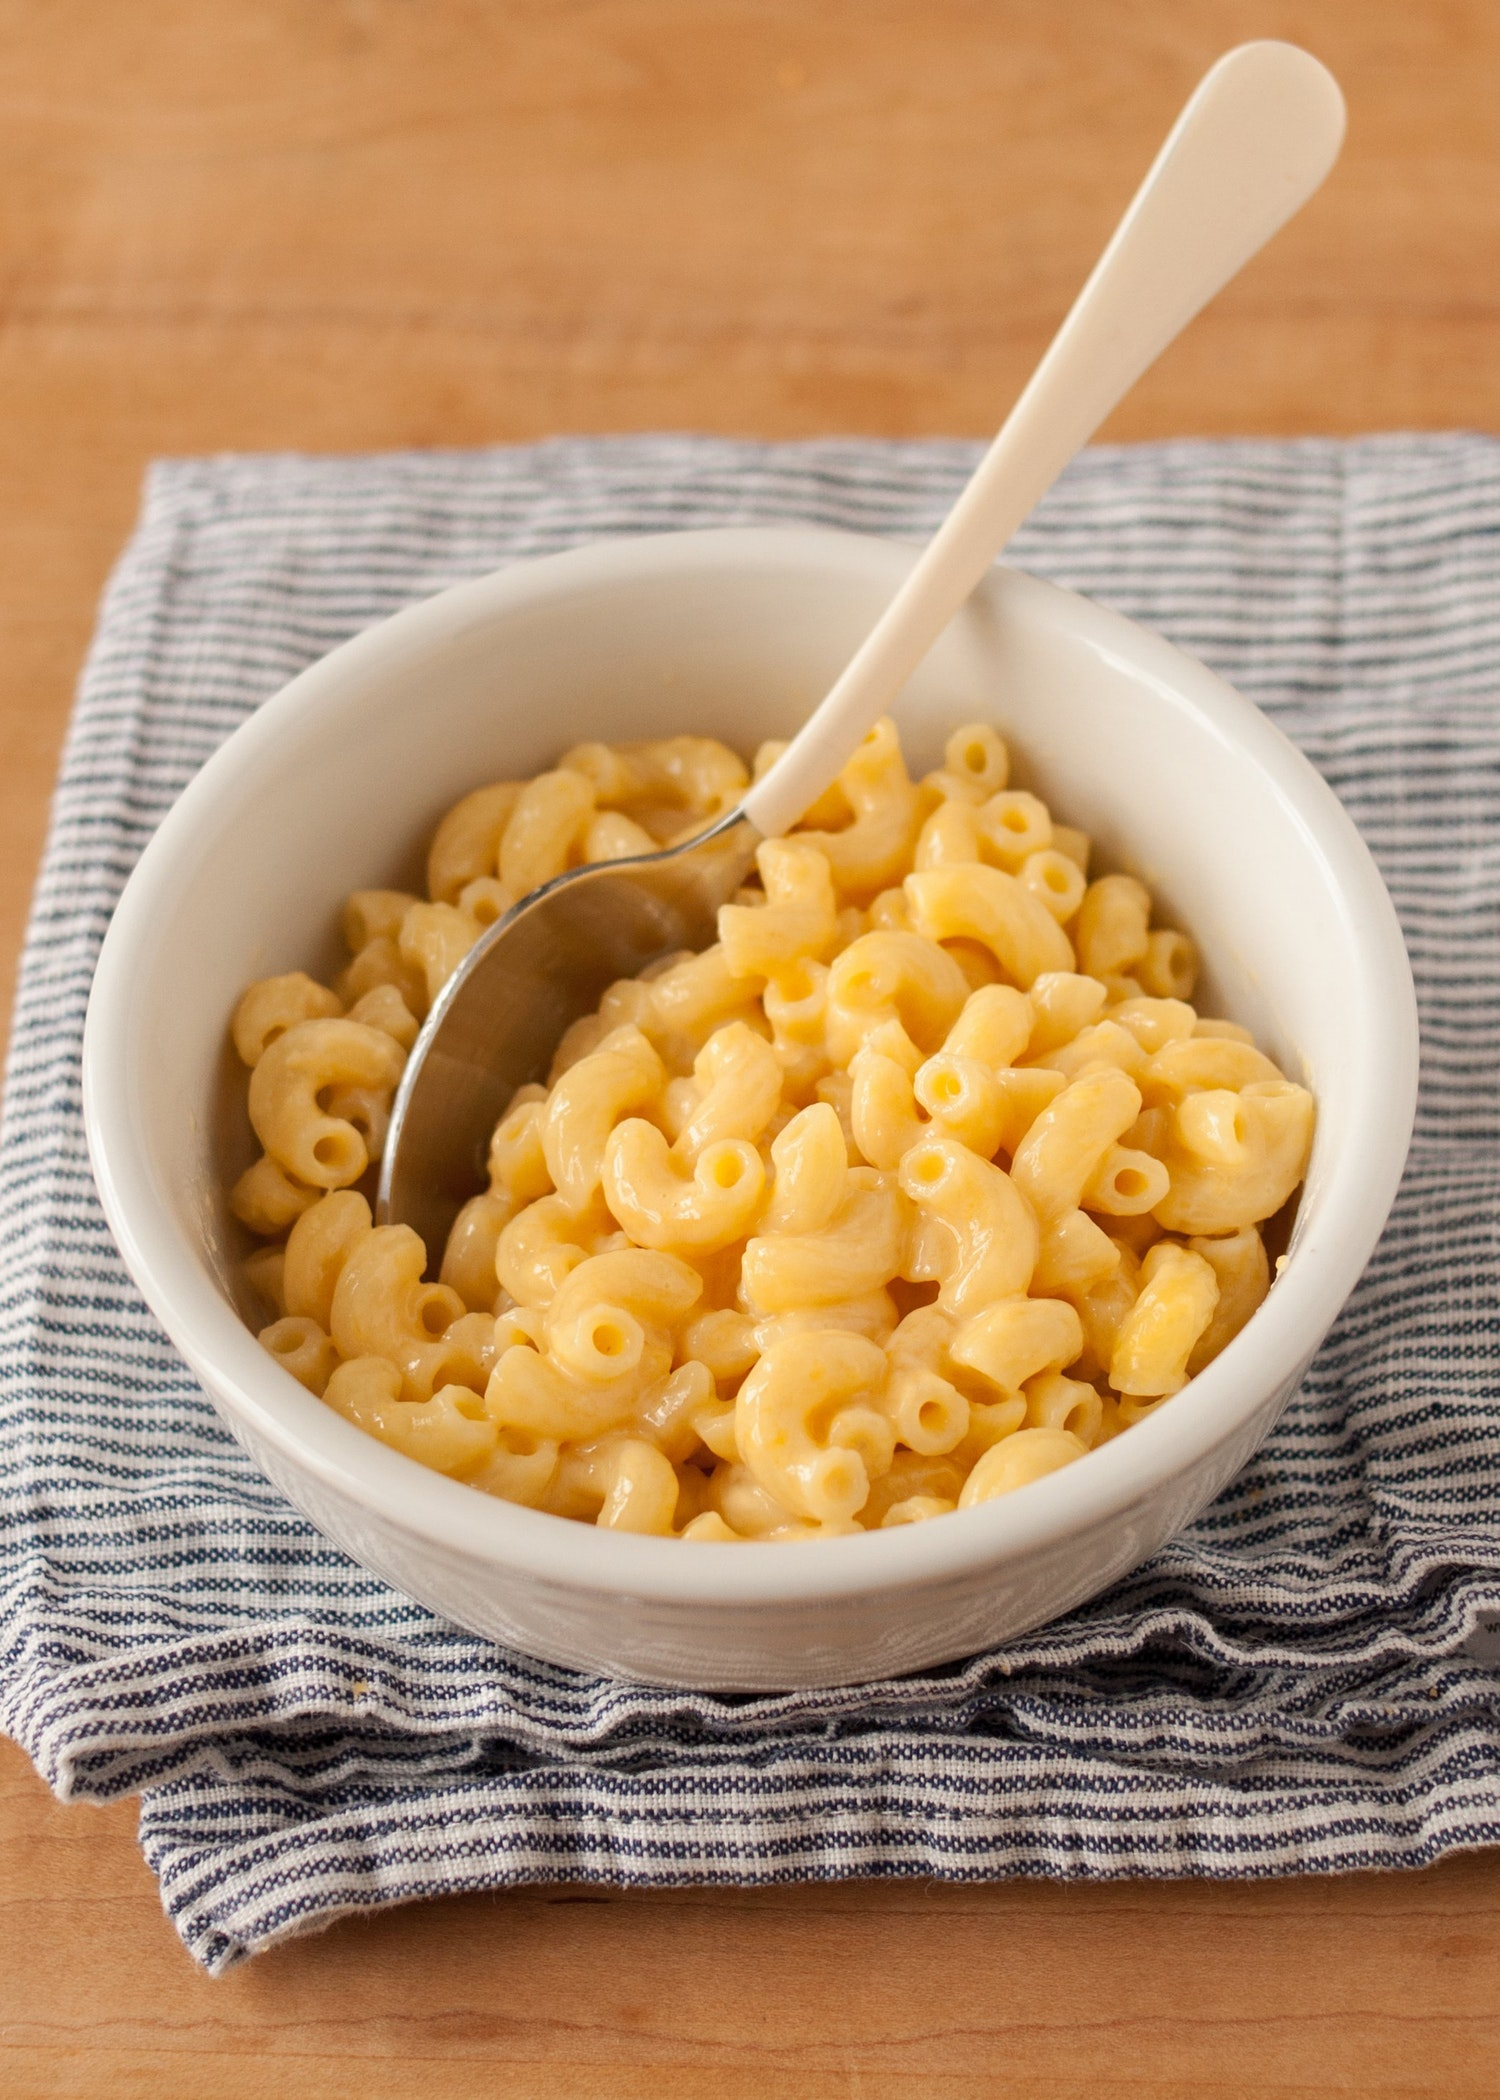macncheese: (125, 563, 1500, 1483)
